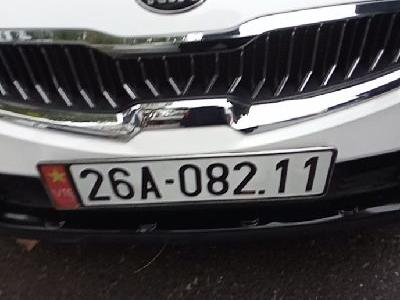car: (36, 146, 340, 212)
